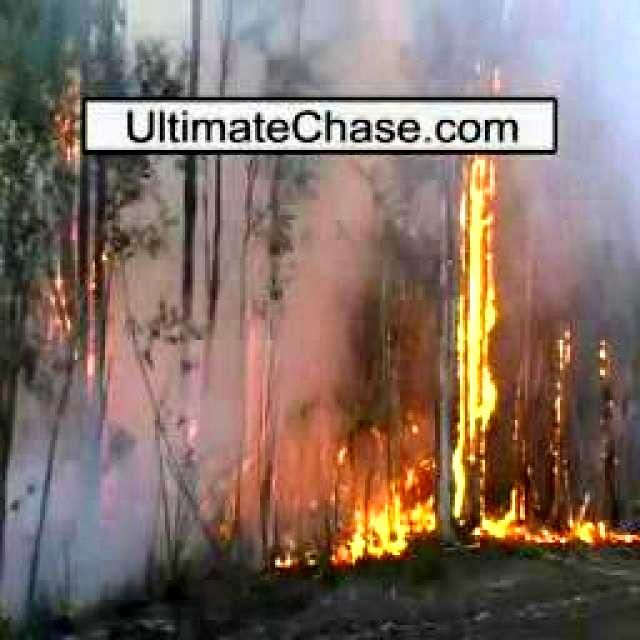Fire: (293, 440, 438, 564), (456, 135, 498, 542), (32, 250, 96, 373), (509, 490, 636, 548), (41, 71, 94, 181), (551, 329, 578, 451)
Smoke: (114, 149, 441, 447), (0, 404, 241, 623), (103, 0, 640, 89), (515, 150, 640, 330)
